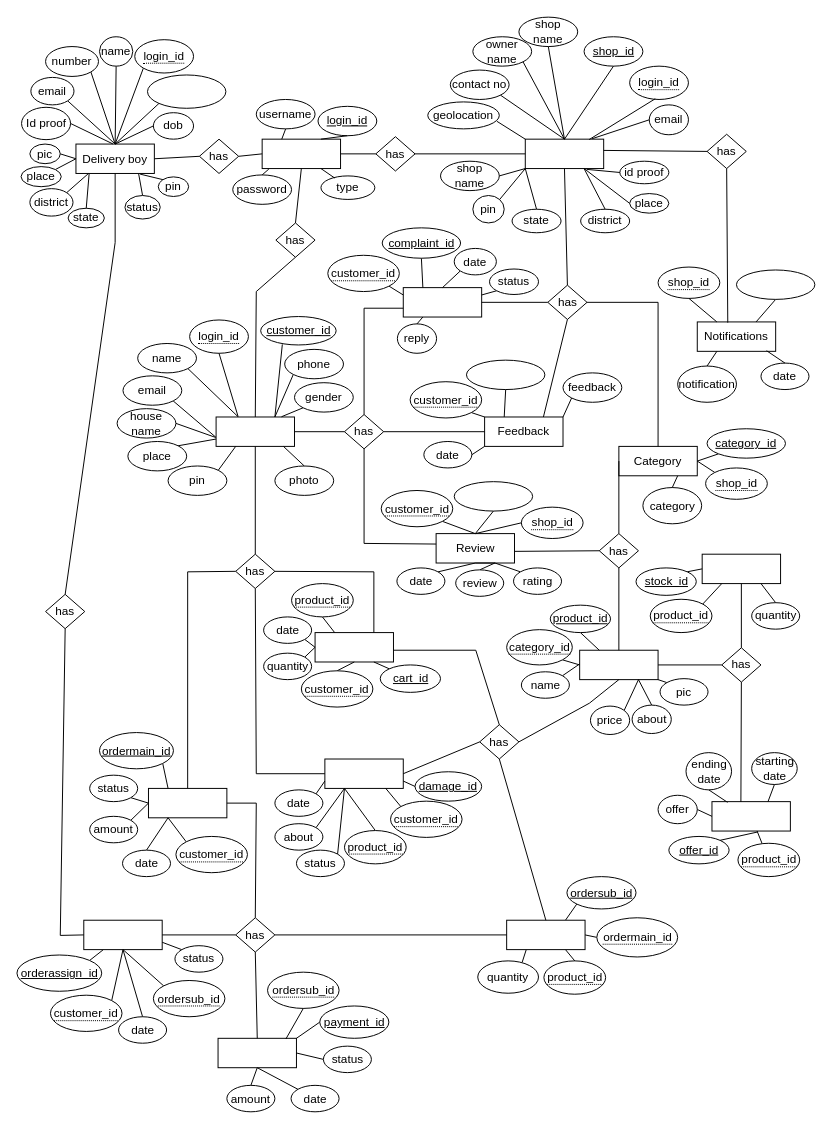
This 833x1129 diagram has some shape labels left out. The shapes that lost their labels are listed below. From the top down, each one's box as (x1, y1, x2, y2) in pixels, then its label:
(147, 74, 226, 108): deliveryboy_id
(261, 138, 341, 169): Login
(524, 138, 604, 169): Shop
(402, 287, 482, 317): Complaints
(735, 269, 815, 299): notification_id
(466, 359, 545, 390): feedback_id
(215, 416, 294, 446): Customer
(453, 481, 533, 511): review_id
(701, 553, 781, 584): Stock
(314, 632, 393, 662): Cart
(579, 649, 658, 680): Product
(324, 758, 403, 788): Damage
(147, 787, 227, 818): Order Main
(711, 801, 790, 831): Offers
(83, 919, 162, 950): Order assign
(506, 919, 585, 950): Order Sub
(217, 1037, 296, 1068): Payment
